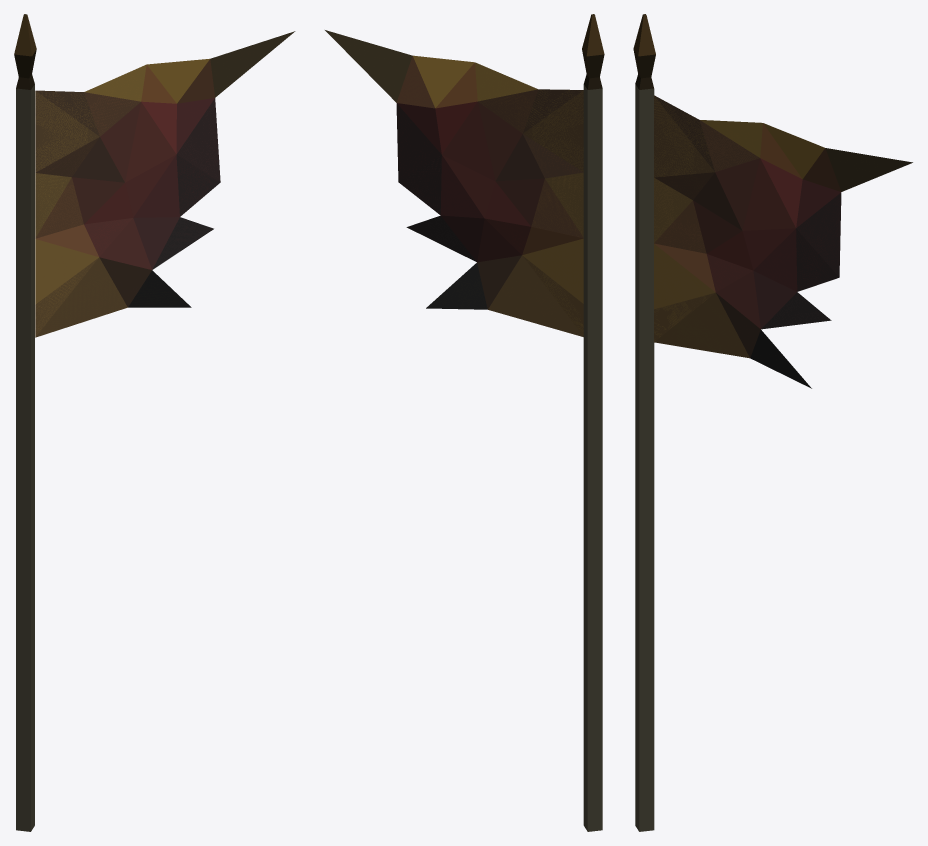
The model's file is Prop_FlagSquareCWorn.fbx.
The picture shows the model from 3 angles, left to right: view 1: azimuth 30°, elevation 25°; view 2: azimuth 150°, elevation 25°; view 3: azimuth 330°, elevation 25°; orthographic projection.
Parts seen in each view (by area): view 1: Prop_FlagSquareCWorn; view 2: Prop_FlagSquareCWorn; view 3: Prop_FlagSquareCWorn.
Part boxes in pixels (box(x1,y1,x2,y2)): Prop_FlagSquareCWorn: box(14, 14, 295, 831); Prop_FlagSquareCWorn: box(325, 14, 604, 831); Prop_FlagSquareCWorn: box(633, 14, 912, 831).
Size of the model in its own units: 149 by 411 by 11.99.
